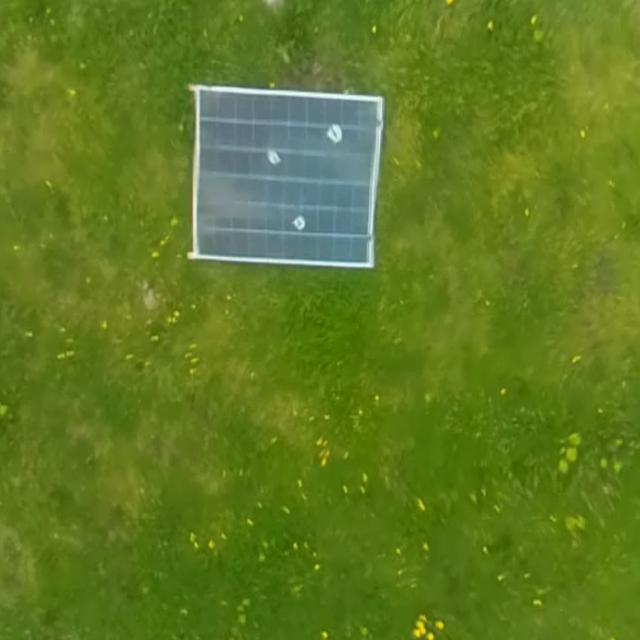Bird-drop: (255, 138, 286, 172), (280, 206, 312, 236), (320, 118, 344, 146)
